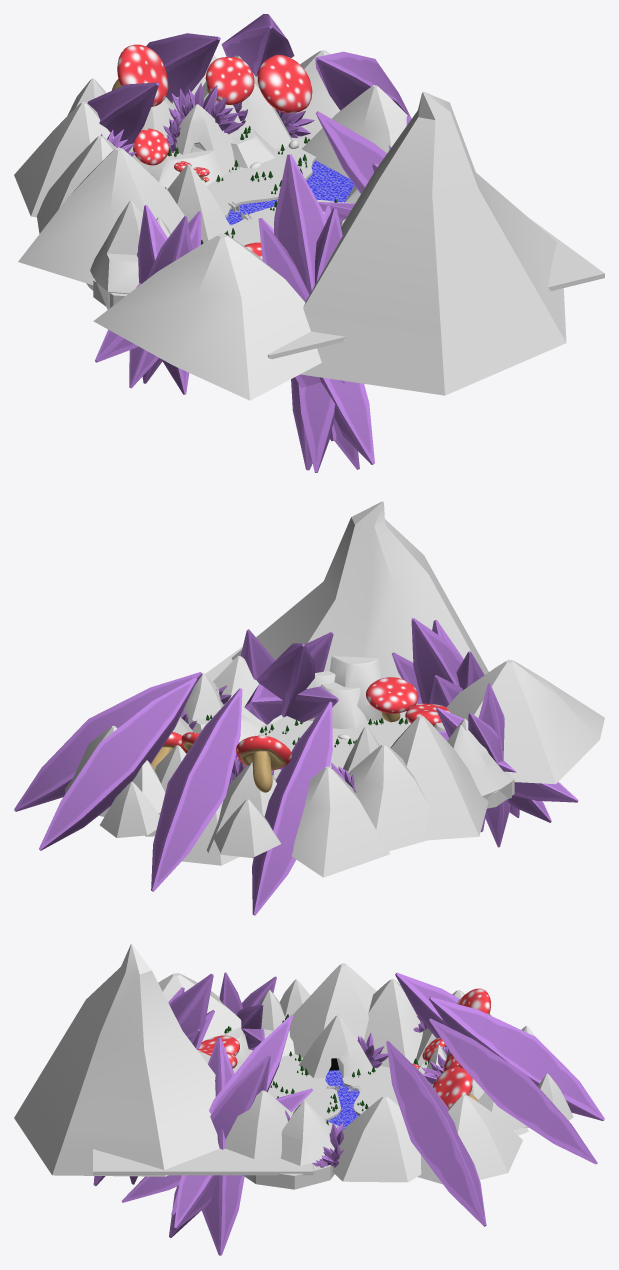
File: SaplingMap 1.fbx
3 views of the same model, one above another, from view 1: azimuth 30°, elevation 25°; view 2: azimuth 150°, elevation 25°; view 3: azimuth 270°, elevation 25° (orthographic). The views are drawn at different scales.
Parts seen in each view (by area): view 1: Cube.075, Cube.076, Cube.055, Cube.086, LargeCrystal.262, TerrainTwo, Cube.062, Cube.052, Cube.074, TerrainOne, LargeCrystal.194, LargeCrystal.196 (+22 smaller); view 2: Cube.075, Cube.076, LargeCrystal.196, LargeCrystal.195, Cube.086, Cube.055, LargeCrystal.193, Cube.061, LargeCrystal.194, TerrainTwo, LargeCrystal.262, Cube.056 (+26 smaller); view 3: Cube.075, LargeCrystal.194, TerrainTwo, LargeCrystal.195, LargeCrystal.196, Cube.062, Cube.055, Cube.058, Cube.085, Cube.061, LargeCrystal.325, Cube.063 (+21 smaller).
Part boxes in pixels (box(x1,y1,x2,y2)): Cube.075: box(300, 91, 566, 395); Cube.076: box(93, 233, 321, 400); Cube.055: box(18, 147, 184, 285); Cube.086: box(14, 102, 114, 217); LargeCrystal.262: box(274, 154, 336, 441); TerrainTwo: box(229, 199, 604, 359); Cube.062: box(302, 85, 407, 178); Cube.052: box(147, 104, 234, 189); Cube.074: box(86, 200, 142, 309); TerrainOne: box(206, 137, 316, 217); LargeCrystal.194: box(315, 51, 409, 115); LargeCrystal.196: box(146, 33, 220, 101); Cube.075: box(231, 501, 488, 719); Cube.076: box(446, 659, 604, 784); LargeCrystal.196: box(151, 688, 242, 891); LargeCrystal.195: box(39, 677, 197, 850); Cube.086: box(291, 766, 389, 877); Cube.055: box(390, 715, 488, 840); LargeCrystal.193: box(252, 701, 332, 915); Cube.061: box(348, 744, 429, 851); LargeCrystal.194: box(14, 672, 202, 811); TerrainTwo: box(205, 632, 410, 770); LargeCrystal.262: box(411, 618, 462, 703); Cube.056: box(213, 799, 280, 856); Cube.075: box(14, 944, 219, 1176); LargeCrystal.194: box(386, 1041, 486, 1226); TerrainTwo: box(93, 1053, 341, 1175); LargeCrystal.195: box(429, 1018, 597, 1164); LargeCrystal.196: box(429, 997, 604, 1120); Cube.062: box(333, 1096, 421, 1182); Cube.055: box(289, 963, 376, 1057); Cube.058: box(417, 1094, 522, 1184); Cube.085: box(243, 1100, 339, 1189); Cube.061: box(364, 979, 422, 1067); LargeCrystal.325: box(201, 1037, 244, 1255); Cube.063: box(225, 1090, 292, 1158).
Bounding box in the file's own units: 176305 × 122535 × 229997.
